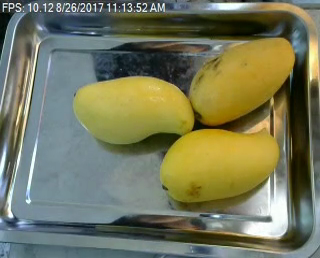Mango: (156, 126, 282, 206), (186, 36, 297, 124), (72, 74, 194, 147)
